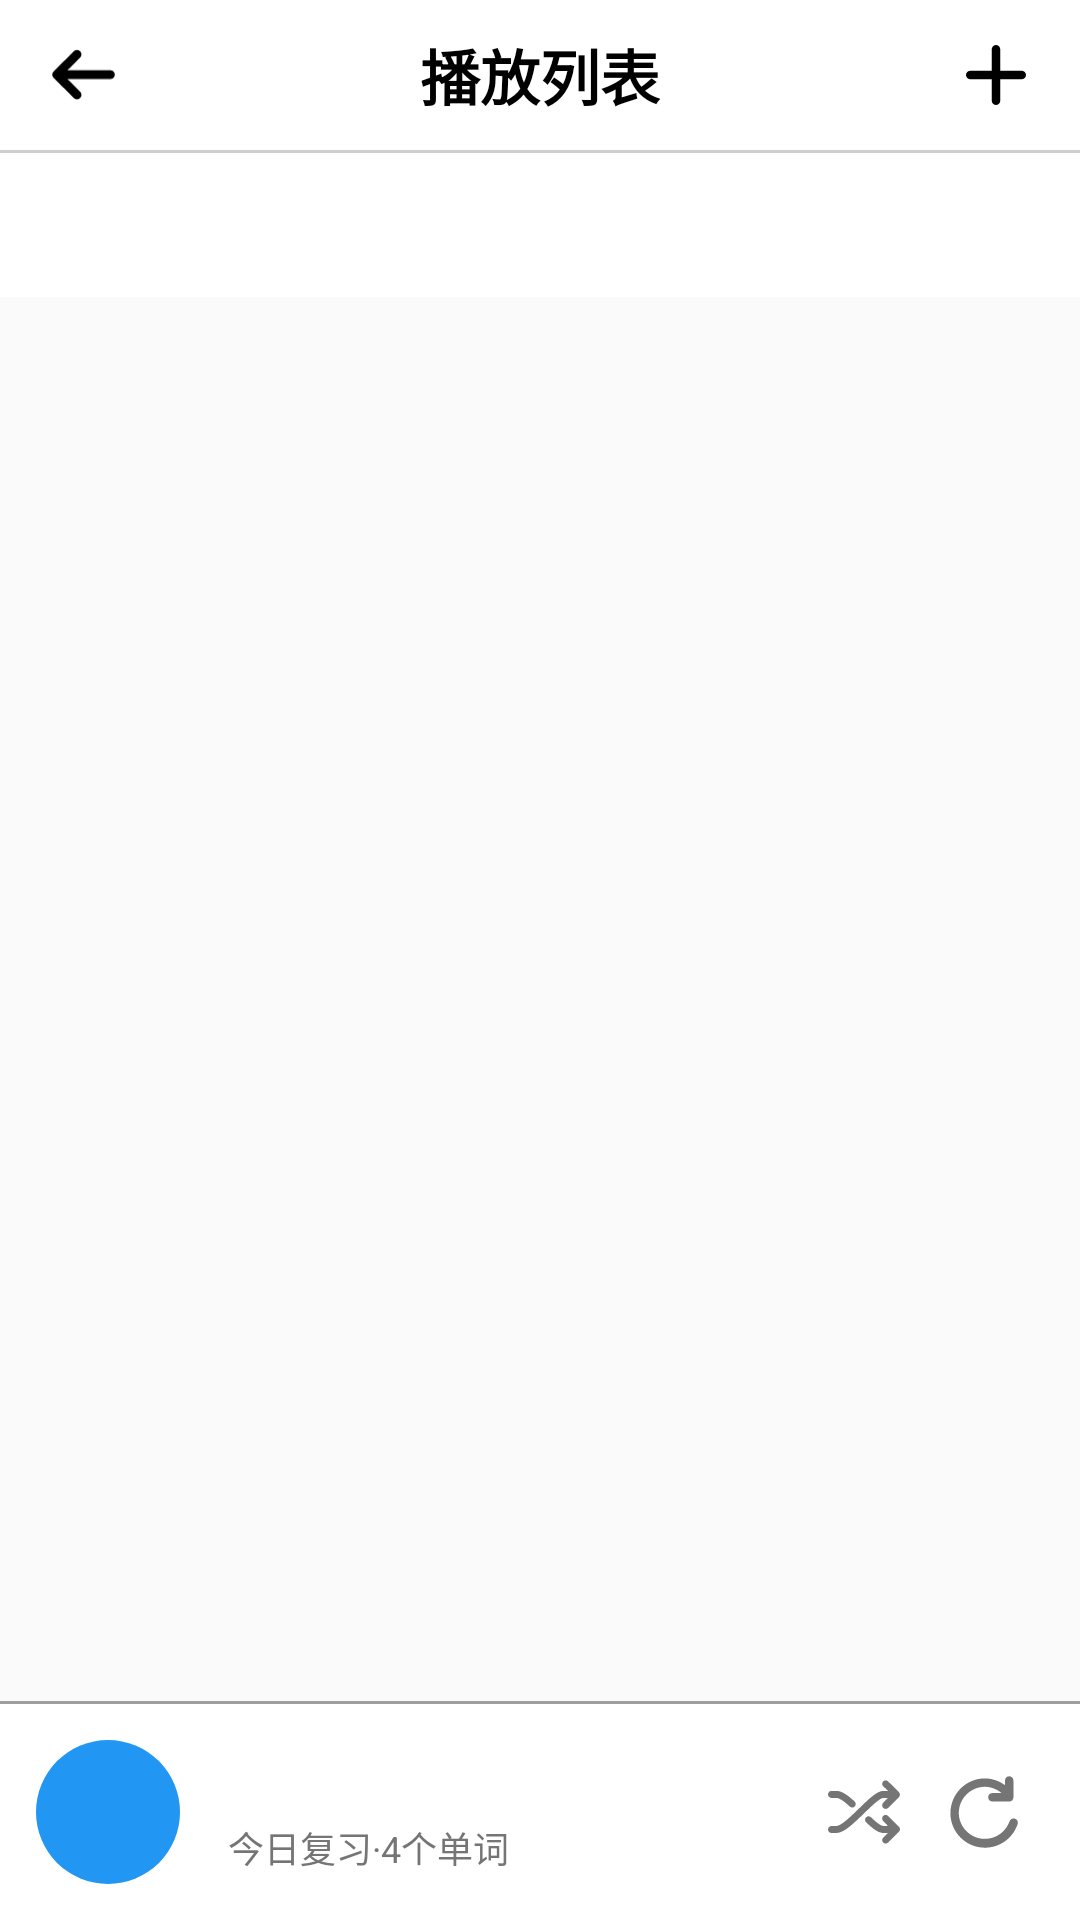

Where icons sit on this 1080px×1920px app screen, as (x1, y1, x2, y2):
创建新列表: (966, 45, 1026, 105)
循环播放: (950, 1776, 1018, 1848)
返回: (52, 49, 115, 100)
随机播放: (828, 1780, 900, 1844)
